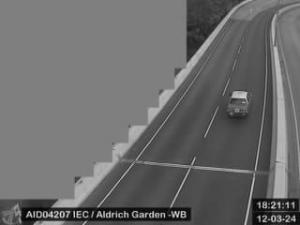vehicle: (226, 91, 255, 120)
